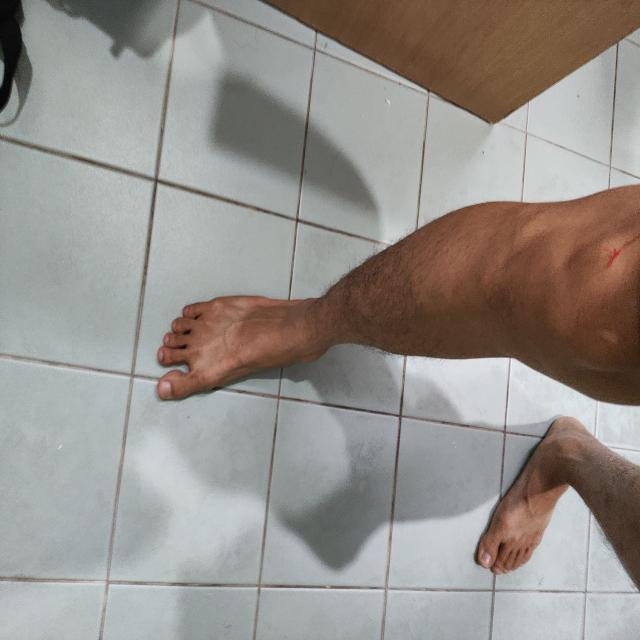No_Shoes: (156, 267, 348, 416), (470, 408, 590, 586)
